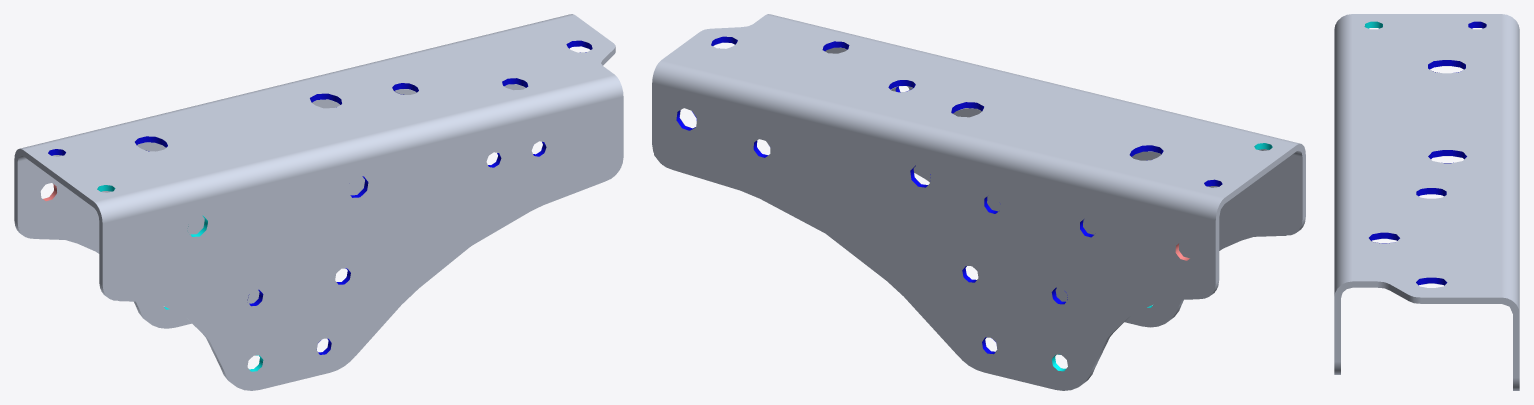
3 renders of one model, left to right at view 1: azimuth 30°, elevation 25°; view 2: azimuth 150°, elevation 25°; view 3: azimuth 270°, elevation 25°, orthographic. The views are drawn at different scales.
Visible parts, largest first — view 1: sourcefile; view 2: sourcefile; view 3: sourcefile.
Part boxes in pixels (<box>): sourcefile: <box>14,14,623,390</box>; sourcefile: <box>652,14,1305,390</box>; sourcefile: <box>1334,14,1519,390</box>.
Size of the model in its own units: 441 by 168 by 122.
